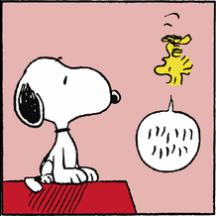snoopy: (12, 56, 120, 194)
